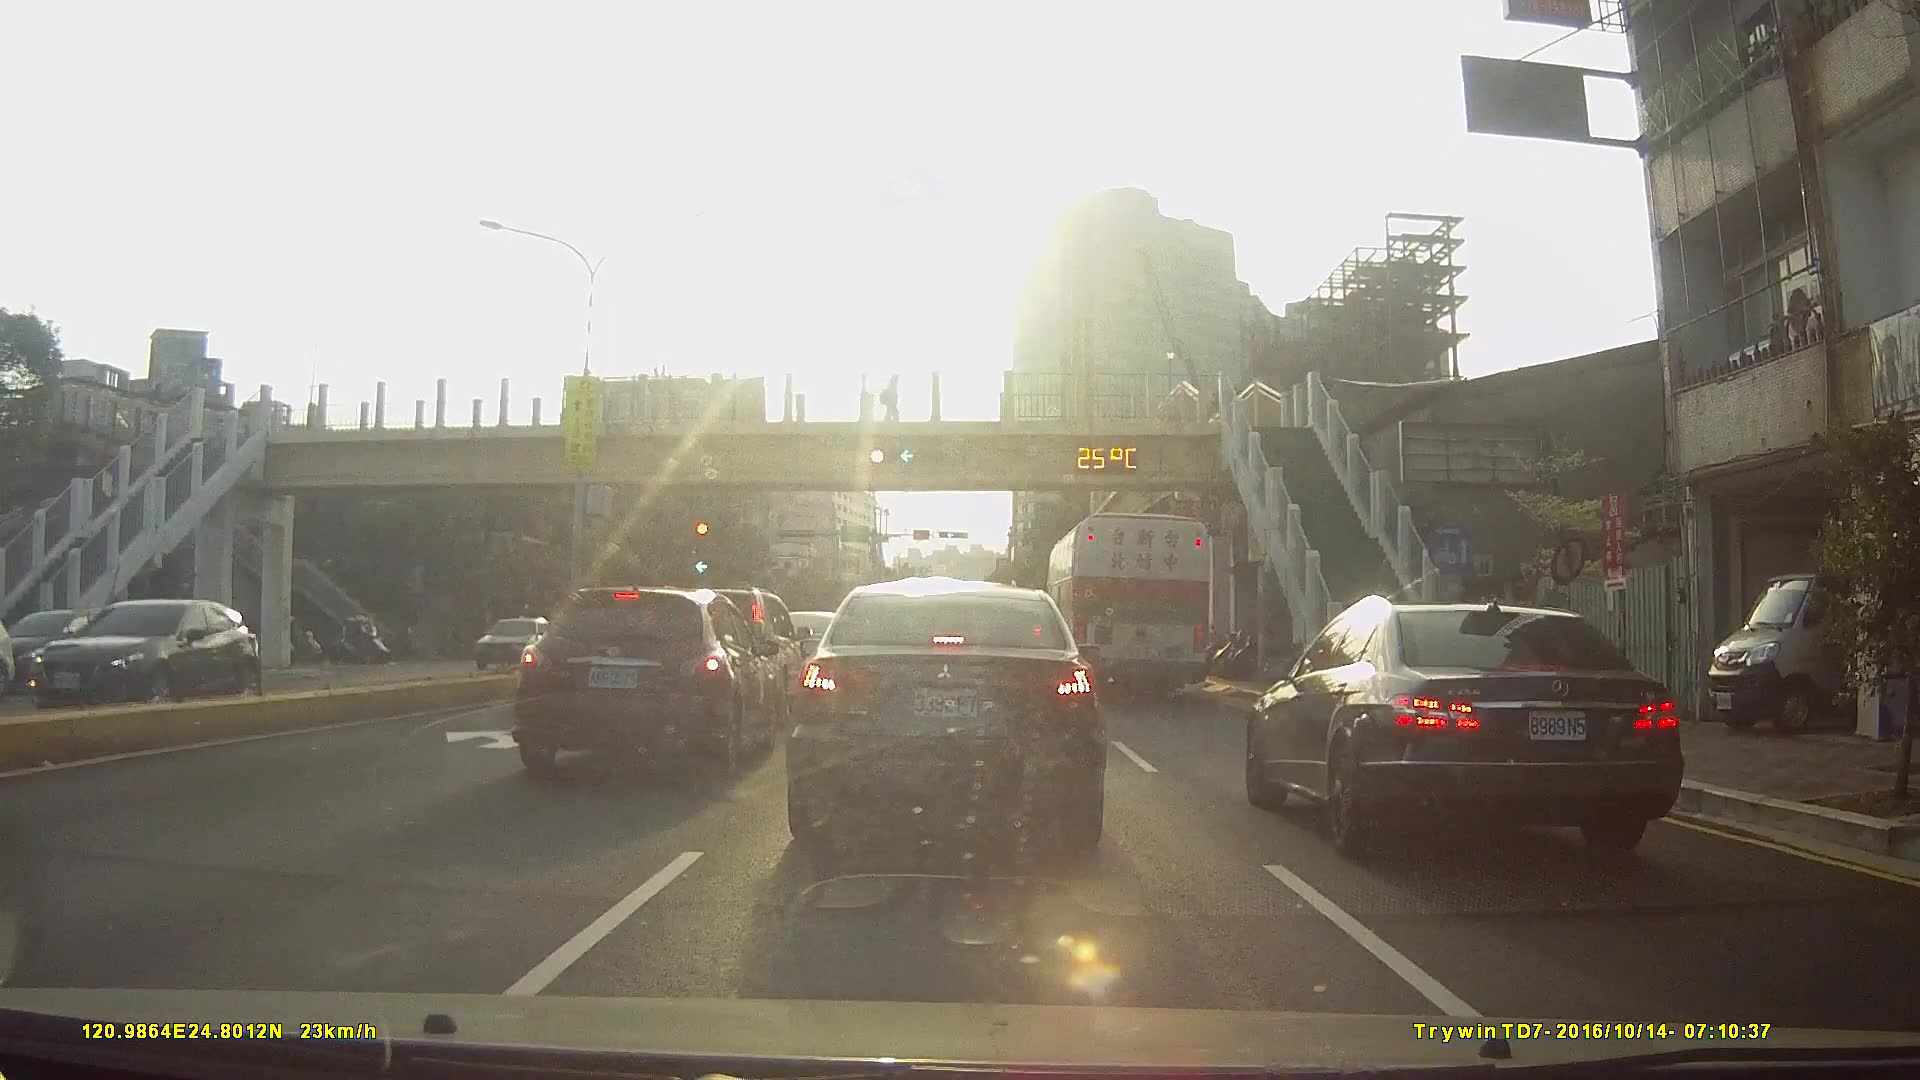pedestrian: (882, 375, 904, 423)
rider: (330, 615, 398, 670)
vehicle: (1239, 594, 1675, 860), (780, 579, 1110, 852), (506, 581, 783, 782), (1045, 512, 1212, 700), (0, 596, 247, 717), (2, 606, 141, 690), (466, 615, 557, 671)
